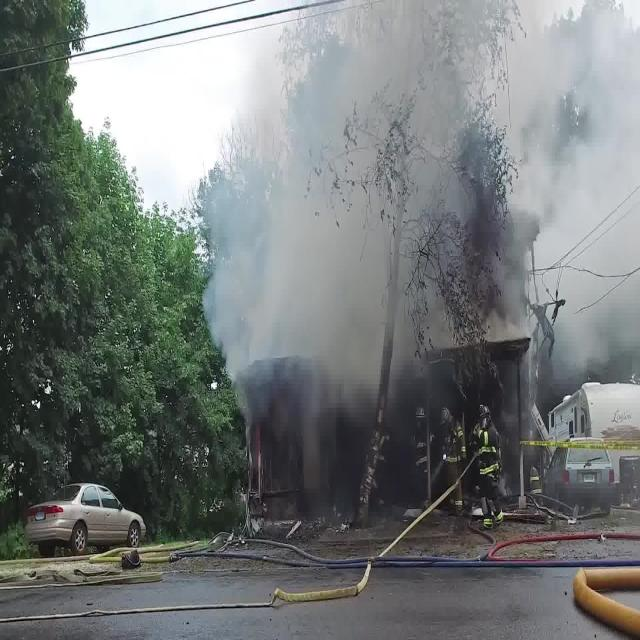Smoke: (184, 0, 640, 456)
